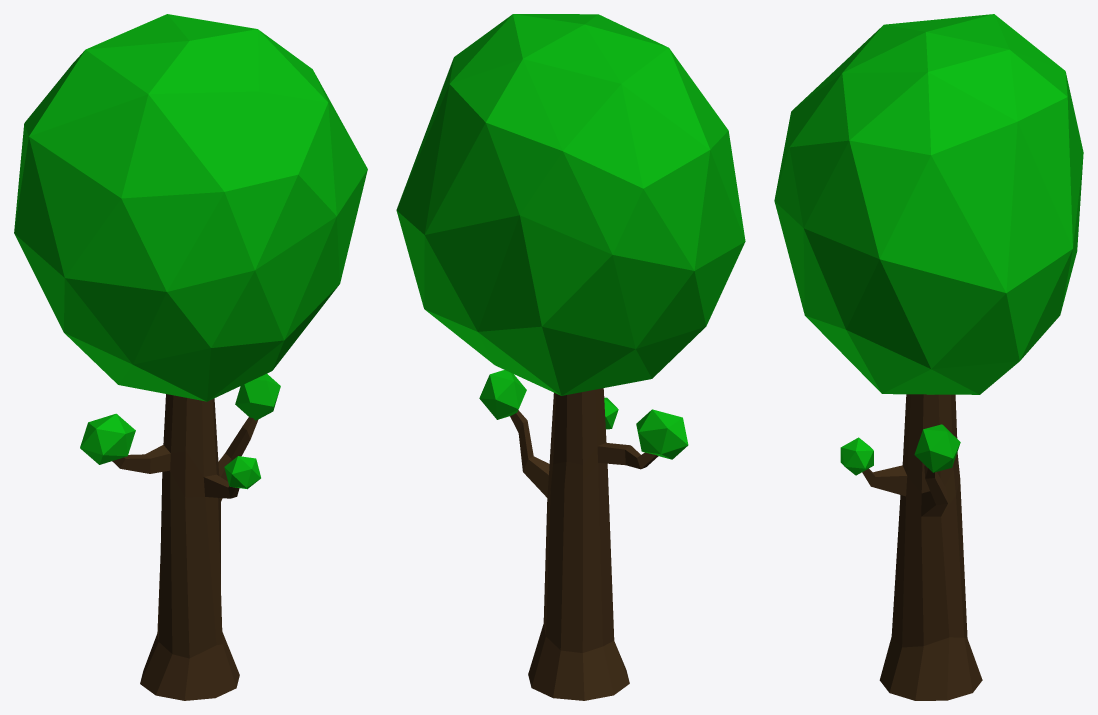
File: plant_tree_play_a.glb
3 renders of one model, left to right at view 1: azimuth 30°, elevation 25°; view 2: azimuth 150°, elevation 25°; view 3: azimuth 270°, elevation 25°, orthographic.
Visible parts, largest first — view 1: tree; view 2: tree; view 3: tree.
Boxes of the visible parts, box(x1,y1,x2,y2) form: tree: box(14, 14, 367, 700); tree: box(396, 14, 745, 700); tree: box(774, 14, 1083, 700).
Bounding box in the file's own units: 3.37 × 6.93 × 3.
